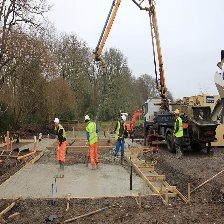helmet: (82, 115, 90, 123), (54, 116, 60, 126), (174, 108, 181, 116), (121, 114, 128, 122)
person: (82, 115, 102, 172), (52, 116, 70, 173), (112, 113, 128, 167), (174, 107, 185, 161)
vest: (85, 124, 98, 144), (114, 122, 126, 143), (175, 118, 184, 139), (54, 126, 67, 140)
